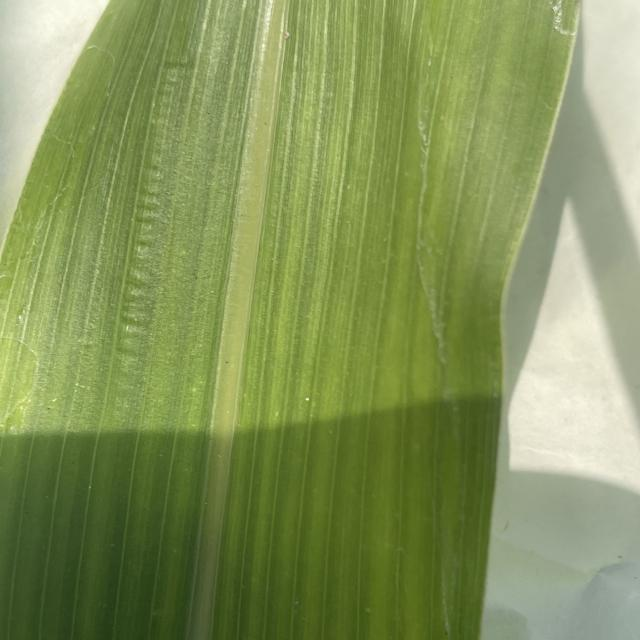millet_healthy: (4, 3, 588, 640)
